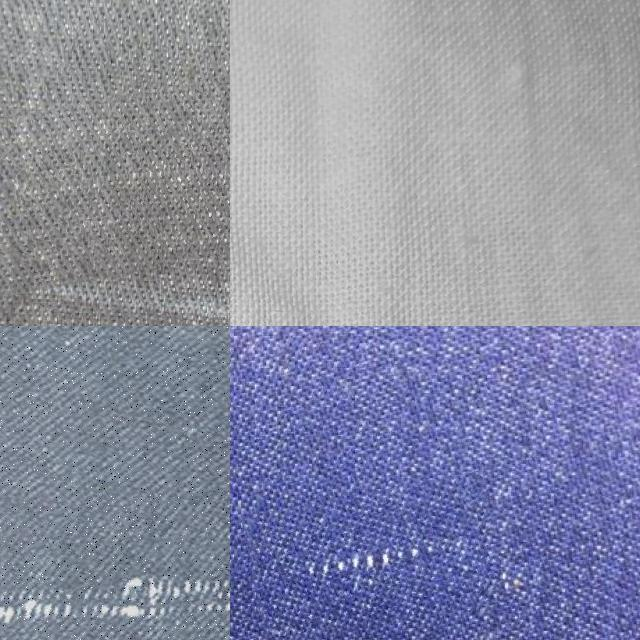stains: (0, 51, 230, 285), (0, 464, 230, 640), (246, 481, 502, 637)
